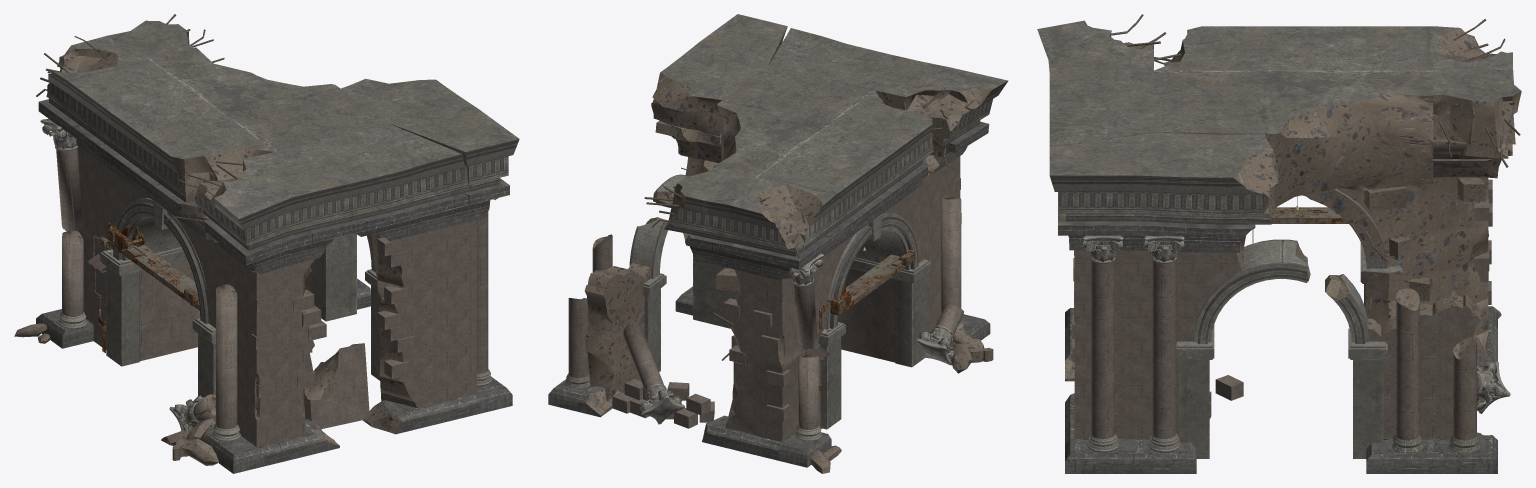
File: ExitDoorObj.fbx
3 views of the same model, side by side, from view 1: azimuth 30°, elevation 25°; view 2: azimuth 150°, elevation 25°; view 3: azimuth 270°, elevation 25° (orthographic). The views are drawn at different scales.
Parts seen in each view (by area): view 1: SM_ECL_ExitBuilding01.mo, SM_Ecl_ExitBuilding01_Ornament.mo; view 2: SM_ECL_ExitBuilding01.mo, SM_Ecl_ExitBuilding01_Ornament.mo; view 3: SM_ECL_ExitBuilding01.mo, SM_Ecl_ExitBuilding01_Ornament.mo.
Part boxes in pixels (left/top/right/bottom): SM_ECL_ExitBuilding01.mo: left=14, top=14, right=519, bottom=473; SM_Ecl_ExitBuilding01_Ornament.mo: left=87, top=222, right=199, bottom=353; SM_ECL_ExitBuilding01.mo: left=548, top=14, right=1008, bottom=473; SM_Ecl_ExitBuilding01_Ornament.mo: left=805, top=250, right=915, bottom=408; SM_ECL_ExitBuilding01.mo: left=1037, top=14, right=1521, bottom=473; SM_Ecl_ExitBuilding01_Ornament.mo: left=1271, top=207, right=1348, bottom=223.
Size of the model in its own units: 1144 by 1003 by 1409.
